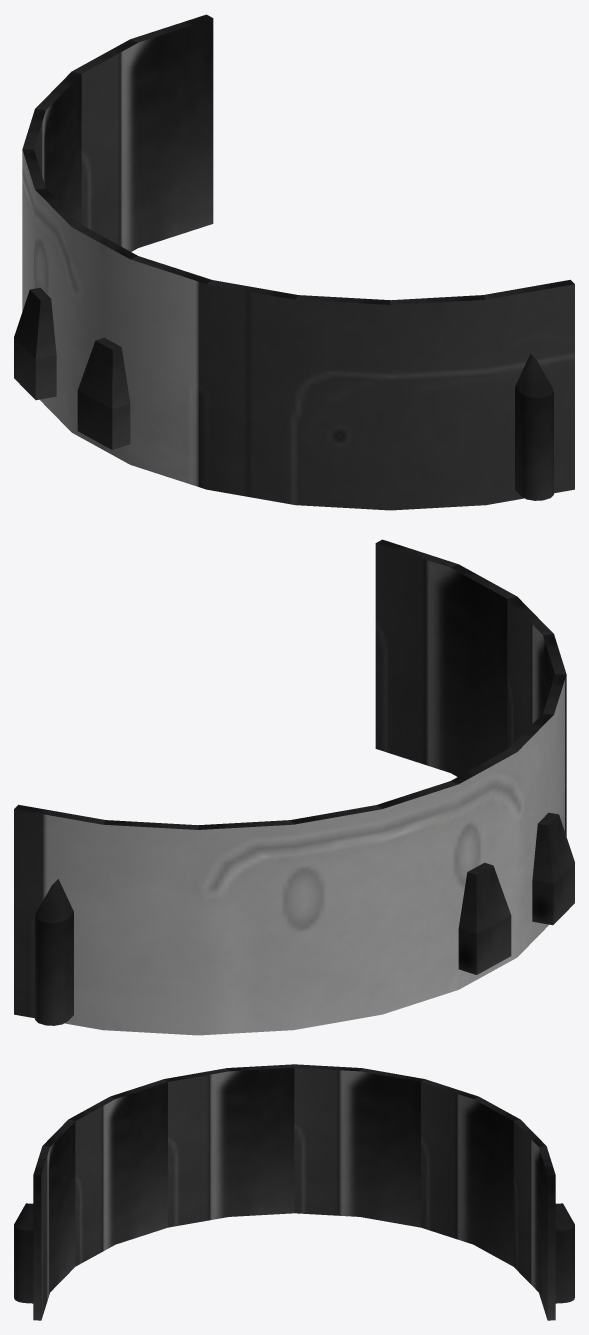
File: fixedbase.obj
The picture shows the model from 3 angles, top to bottom: view 1: azimuth 30°, elevation 25°; view 2: azimuth 150°, elevation 25°; view 3: azimuth 270°, elevation 25°; orthographic projection. The views are drawn at different scales.
Parts seen in each view (by area): view 1: base; view 2: base; view 3: base.
Part boxes in pixels (x1,y1,x2,y2): base: (14, 14, 574, 510); base: (14, 539, 574, 1035); base: (14, 1064, 574, 1320).
Size of the model in its own units: 0.854 by 0.5 by 1.75.
